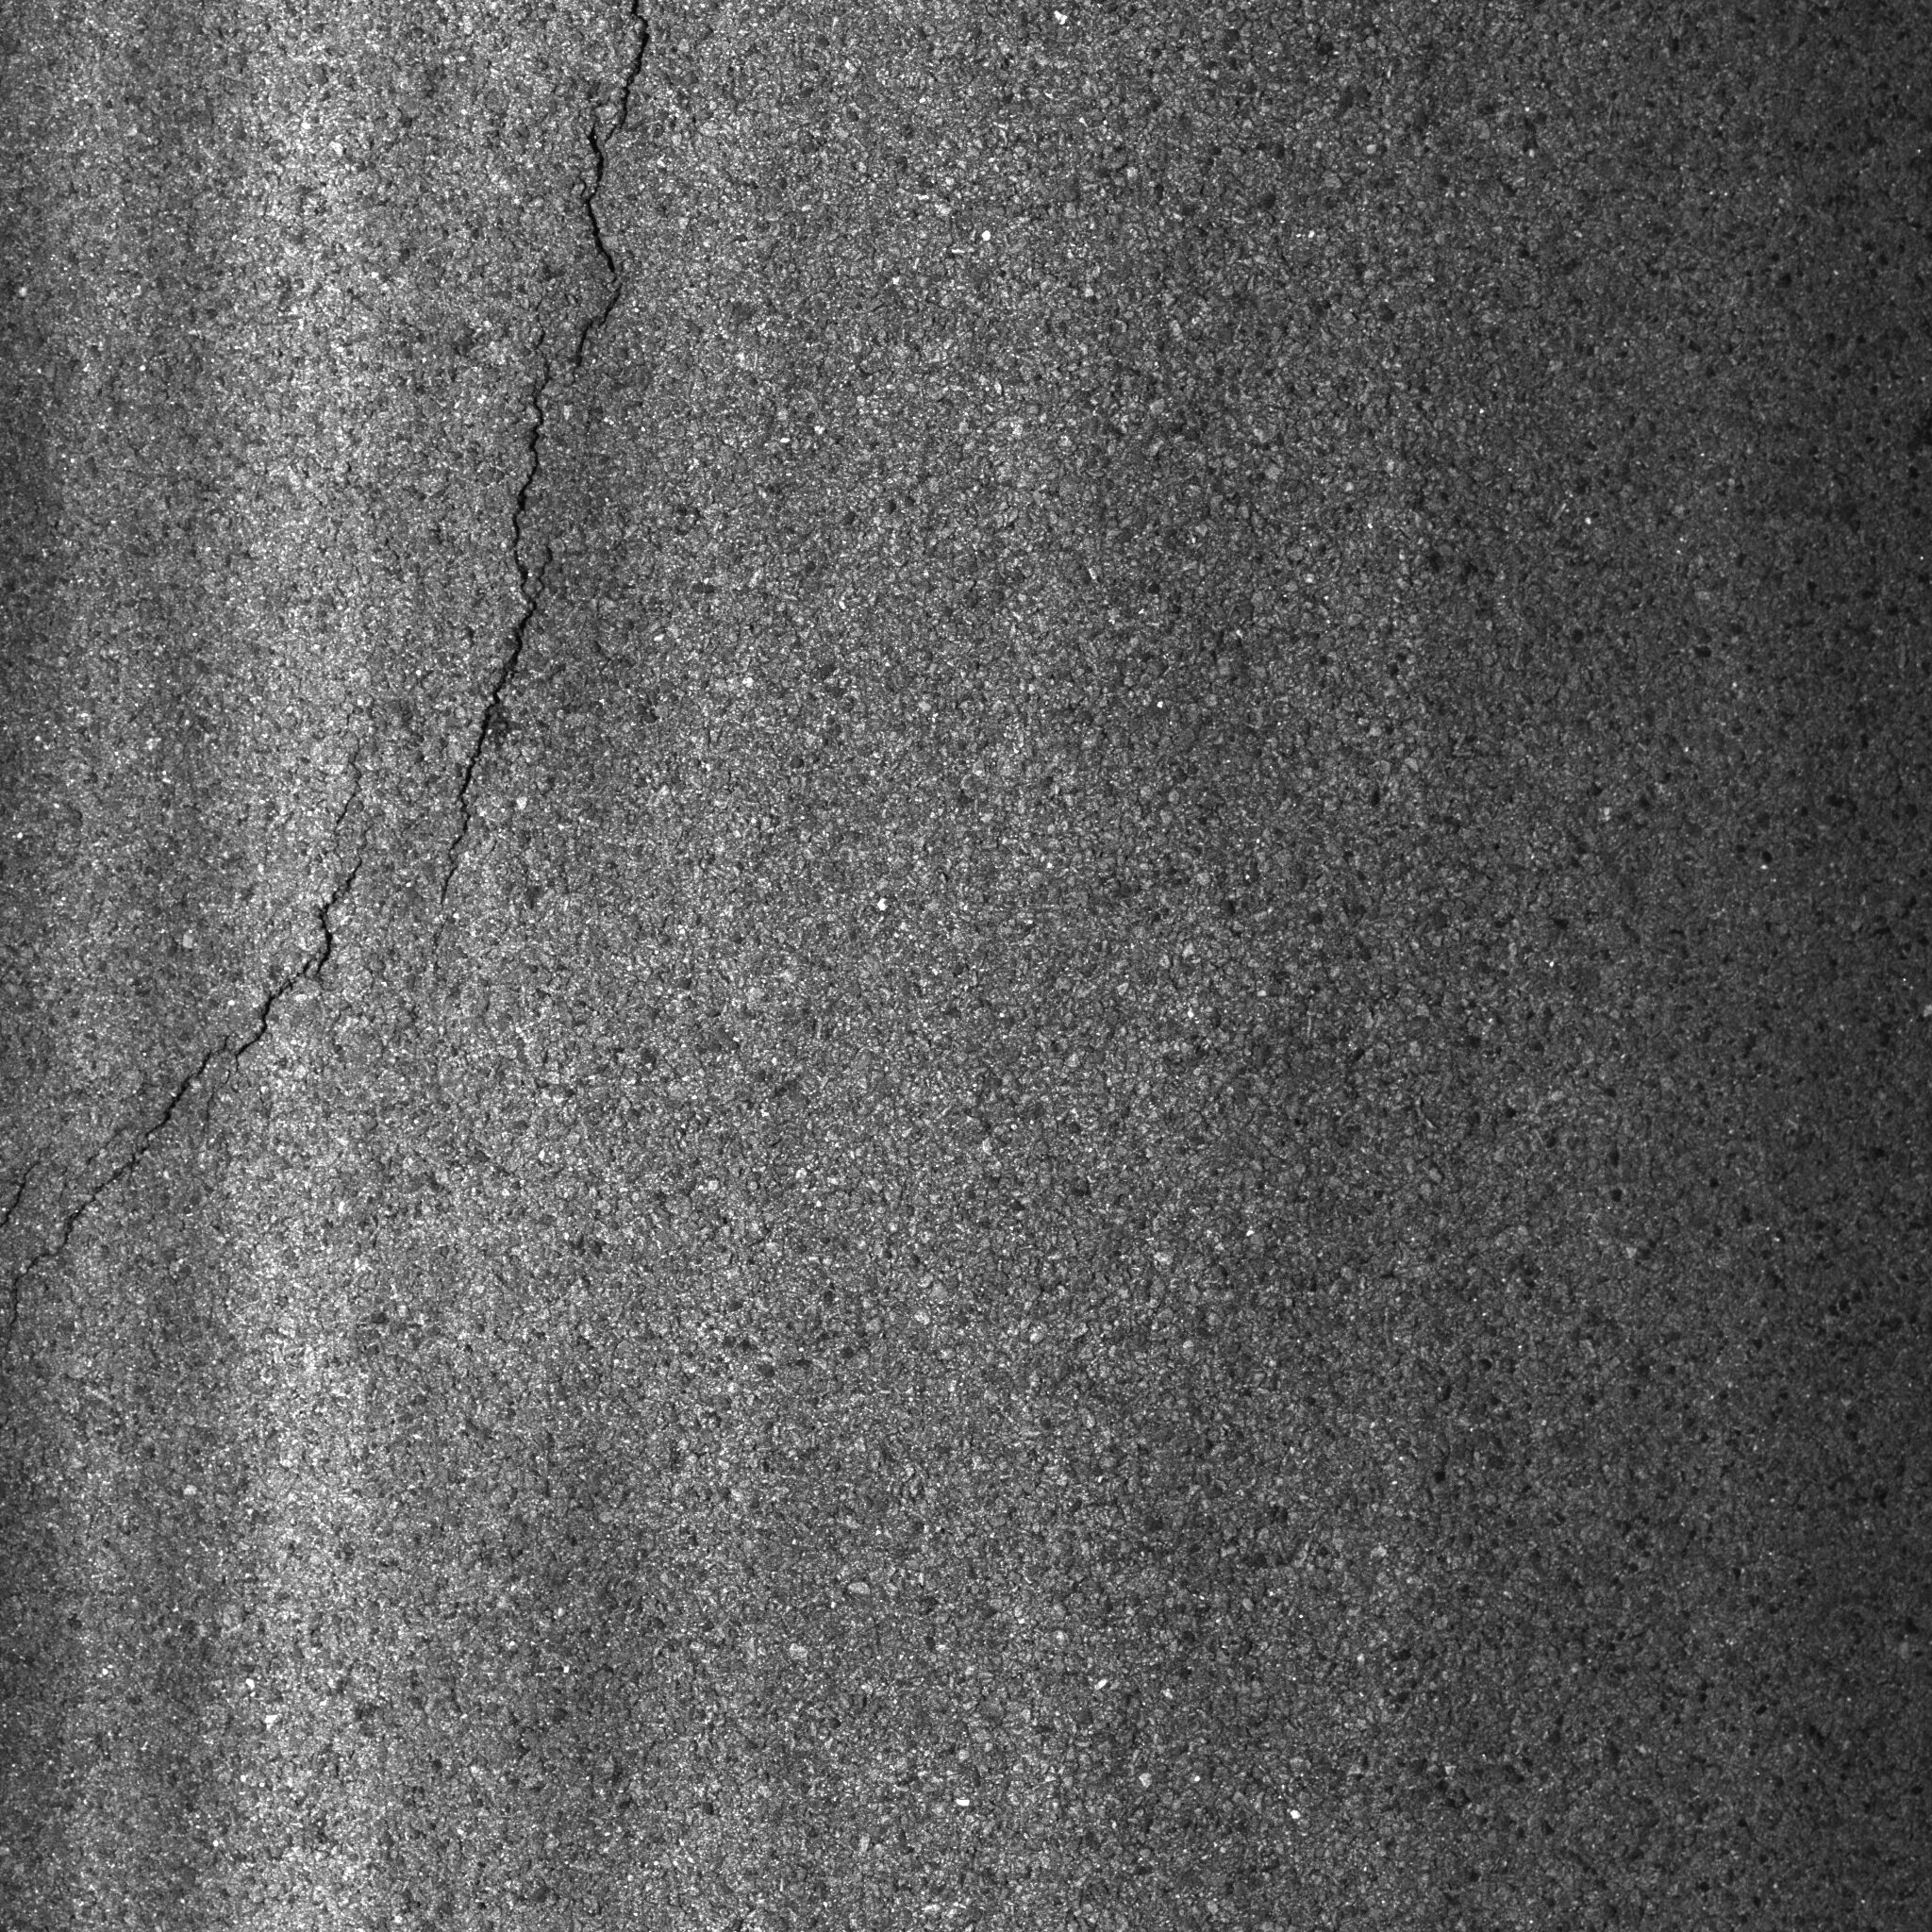longitudinal: (7, 2, 695, 1382)
